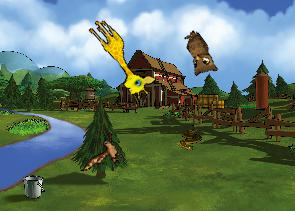eagle: (80, 126, 129, 182)
giraffe: (78, 15, 160, 103)
owl: (172, 28, 222, 82)
